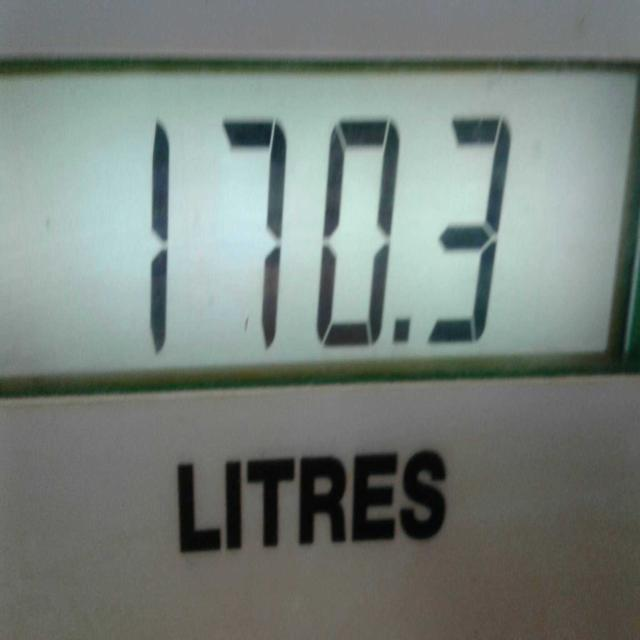.: (388, 298, 414, 357)
0: (308, 109, 401, 350)
1: (130, 102, 197, 366)
3: (422, 109, 524, 350)
7: (210, 108, 298, 354)
